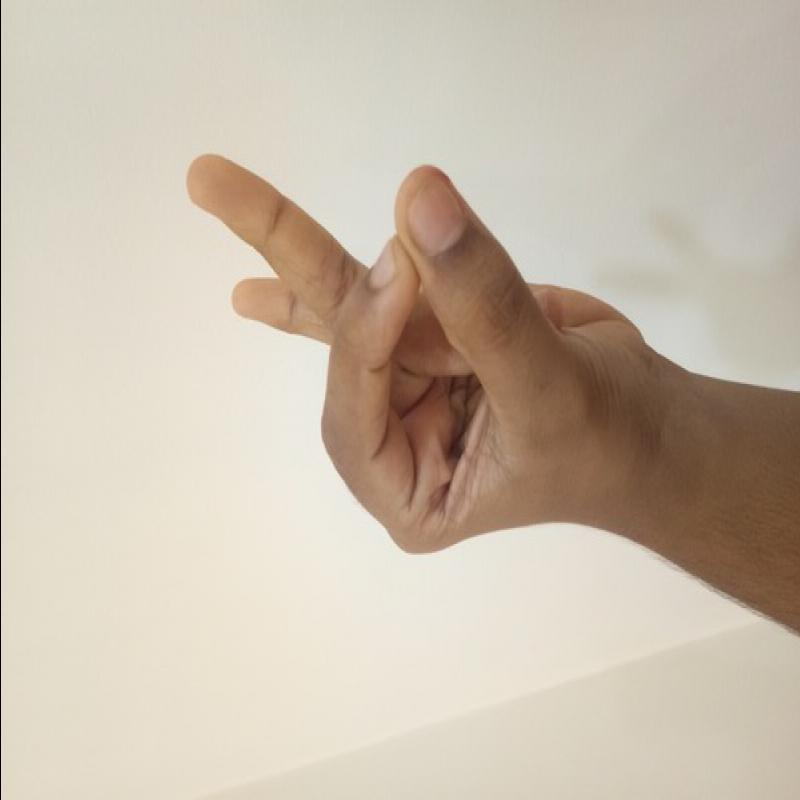Katakam: (154, 138, 657, 564)
